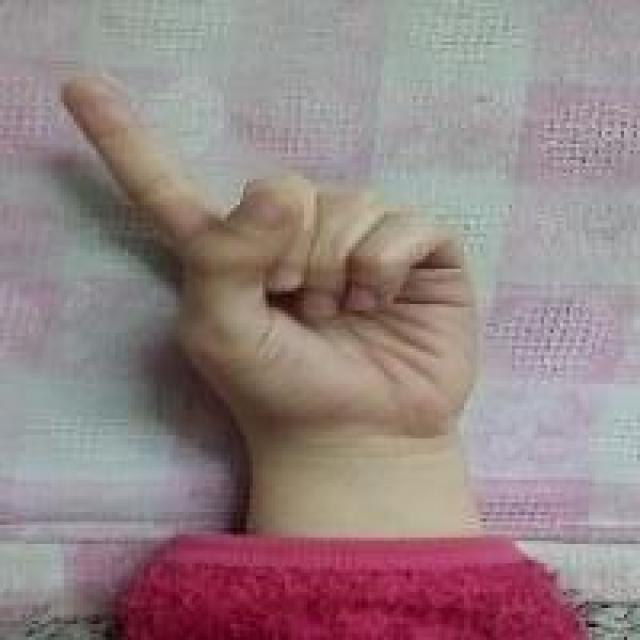Z: (56, 70, 494, 420)
